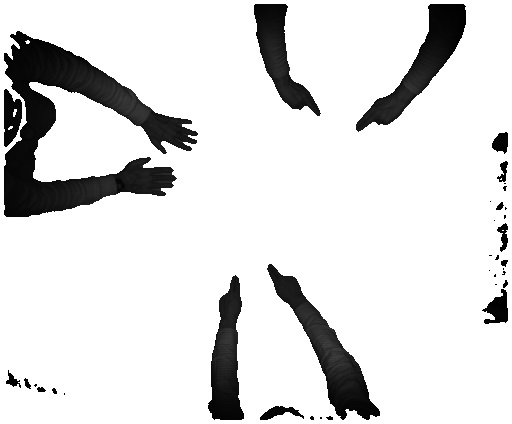hand: (122, 157, 180, 199), (151, 109, 199, 159), (352, 95, 405, 135), (275, 81, 327, 119), (264, 264, 306, 306), (216, 272, 247, 324)
